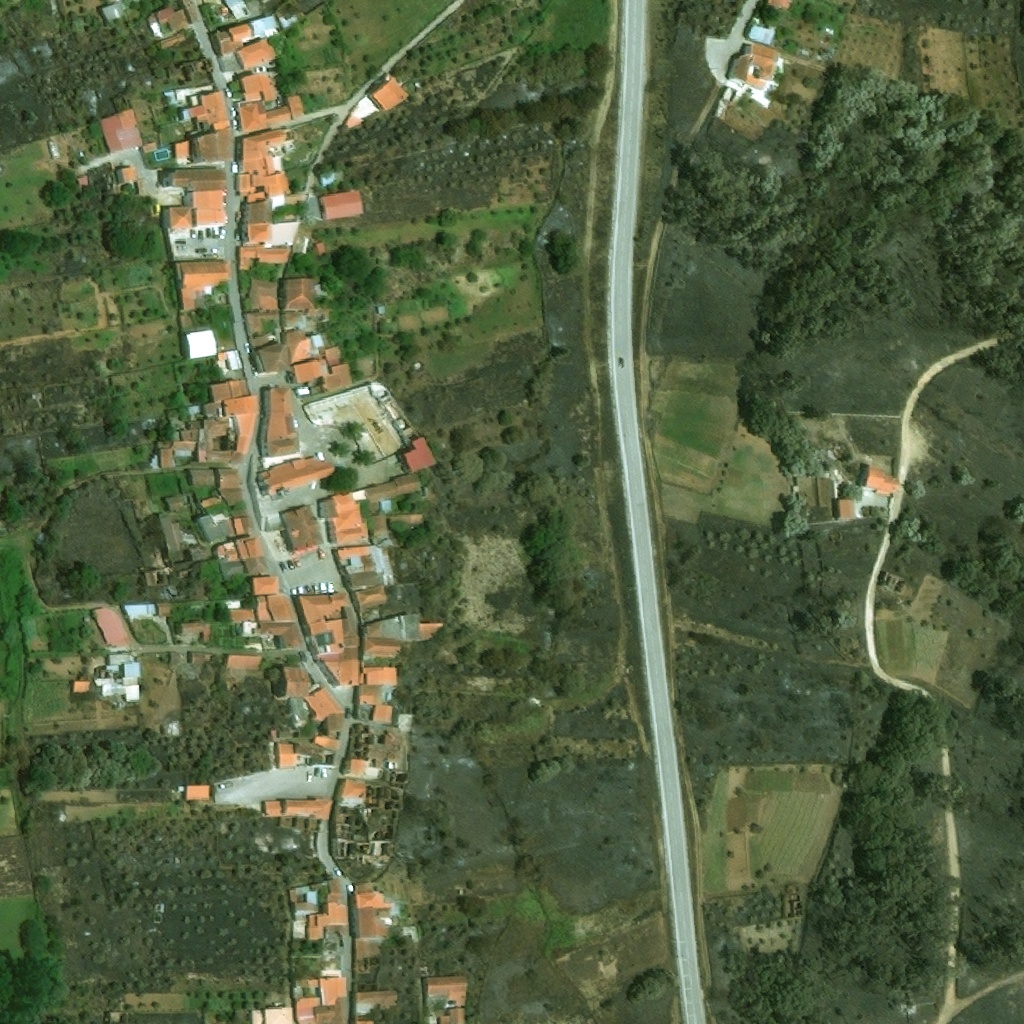0 no-damage: (307, 378, 420, 445), (298, 591, 348, 654), (264, 455, 337, 498), (177, 259, 228, 312), (317, 492, 368, 543), (266, 386, 299, 455), (180, 88, 231, 131), (280, 504, 323, 555), (241, 127, 290, 169), (100, 109, 142, 153), (237, 99, 291, 132), (362, 473, 422, 502), (92, 607, 132, 647), (251, 622, 303, 652), (370, 75, 409, 113), (425, 973, 467, 1007), (304, 685, 342, 722), (206, 419, 235, 464), (319, 190, 363, 219), (401, 436, 435, 473), (863, 464, 901, 496), (237, 38, 277, 68), (93, 676, 140, 701), (244, 310, 274, 348), (240, 70, 274, 102), (283, 797, 330, 819), (197, 129, 230, 160), (291, 357, 327, 385), (251, 168, 291, 193), (218, 22, 250, 53), (164, 169, 226, 185), (283, 277, 315, 308), (752, 45, 782, 78), (247, 276, 277, 309), (320, 660, 358, 686), (155, 4, 190, 32), (255, 342, 284, 375), (354, 908, 388, 936), (184, 330, 216, 359), (316, 995, 349, 1023), (199, 512, 231, 540), (174, 83, 211, 107), (223, 393, 259, 417), (746, 20, 779, 46), (156, 29, 193, 52), (235, 174, 265, 202), (267, 593, 297, 621), (282, 665, 310, 695), (249, 12, 280, 39), (355, 992, 399, 1011), (322, 363, 351, 391), (320, 974, 347, 1004), (362, 639, 402, 659), (294, 743, 332, 764), (268, 221, 301, 245), (236, 415, 256, 454), (210, 379, 247, 400), (160, 514, 181, 551), (284, 330, 308, 362), (235, 532, 263, 559), (727, 51, 751, 82), (361, 666, 398, 686), (177, 621, 212, 642), (347, 758, 383, 778), (292, 891, 317, 919), (317, 902, 346, 926), (226, 652, 263, 670), (219, 557, 244, 583), (295, 997, 320, 1023), (261, 453, 304, 468), (354, 585, 386, 605), (352, 95, 379, 118), (192, 189, 224, 208), (100, 1, 126, 24), (342, 607, 357, 646), (386, 513, 424, 528), (287, 697, 308, 724), (143, 10, 163, 38), (256, 247, 290, 263), (345, 572, 376, 589), (114, 163, 139, 184), (194, 209, 226, 225), (222, 0, 250, 18), (399, 613, 418, 639), (359, 685, 385, 704), (218, 349, 242, 369), (237, 245, 256, 270), (252, 576, 277, 595), (419, 622, 444, 641), (218, 488, 244, 506), (334, 544, 370, 557), (355, 893, 391, 906), (124, 603, 155, 618), (245, 203, 267, 224), (189, 469, 216, 486), (214, 541, 238, 560), (264, 1007, 292, 1023), (169, 207, 191, 227), (244, 554, 267, 573), (742, 74, 766, 92), (319, 169, 346, 185), (276, 743, 294, 767), (254, 597, 272, 621), (313, 734, 338, 751), (220, 52, 240, 73), (380, 615, 399, 637), (247, 223, 269, 241), (217, 469, 239, 487), (286, 94, 303, 117), (439, 1007, 463, 1023), (185, 784, 209, 800), (834, 498, 852, 519), (372, 704, 394, 721), (328, 879, 345, 901), (342, 112, 361, 131), (278, 12, 299, 29), (178, 529, 199, 546), (345, 555, 364, 573), (197, 429, 207, 463), (399, 924, 419, 941), (183, 0, 199, 21), (165, 492, 184, 509), (226, 610, 255, 621), (188, 652, 214, 664), (72, 676, 91, 692), (199, 494, 220, 508), (283, 311, 300, 328), (366, 620, 383, 637), (373, 514, 386, 536), (396, 710, 411, 729), (291, 920, 305, 940), (109, 652, 130, 665), (163, 88, 176, 108), (307, 912, 327, 925), (213, 4, 229, 20), (324, 347, 339, 364), (174, 140, 188, 158), (310, 331, 324, 349), (159, 449, 173, 467), (338, 648, 358, 660), (123, 662, 139, 677), (328, 713, 342, 730), (75, 174, 90, 189), (264, 801, 279, 816), (288, 887, 303, 902), (269, 195, 285, 209), (277, 728, 299, 738), (355, 883, 379, 892), (202, 403, 217, 417), (312, 241, 325, 257), (232, 517, 244, 534), (379, 498, 393, 512), (214, 27, 229, 40), (290, 457, 309, 467), (308, 927, 323, 939), (173, 442, 195, 450), (157, 603, 171, 615), (182, 429, 197, 440), (222, 600, 242, 608), (243, 642, 263, 650), (250, 1009, 261, 1023), (272, 998, 291, 1006), (143, 142, 156, 153), (352, 489, 363, 501), (223, 538, 234, 550), (169, 652, 180, 664), (292, 985, 303, 996), (310, 385, 322, 395), (187, 405, 199, 414), (295, 387, 309, 394), (190, 95, 197, 106), (106, 665, 118, 671), (100, 671, 112, 677), (310, 882, 319, 889), (261, 470, 269, 477), (119, 701, 125, 708), (177, 785, 183, 791)
2 major-damage: (351, 937, 380, 974), (169, 721, 182, 736)
3 destroyed: (351, 725, 402, 764), (341, 777, 399, 807), (327, 807, 353, 861), (355, 840, 390, 865), (144, 566, 177, 586), (880, 569, 906, 593), (382, 550, 397, 585), (367, 827, 394, 841), (389, 771, 409, 789), (719, 85, 736, 103), (829, 440, 845, 456), (107, 1011, 127, 1023), (789, 900, 802, 917), (203, 60, 213, 75), (733, 91, 745, 103), (386, 762, 397, 768)
4 un-classified: (764, 0, 790, 10), (104, 0, 123, 4)
